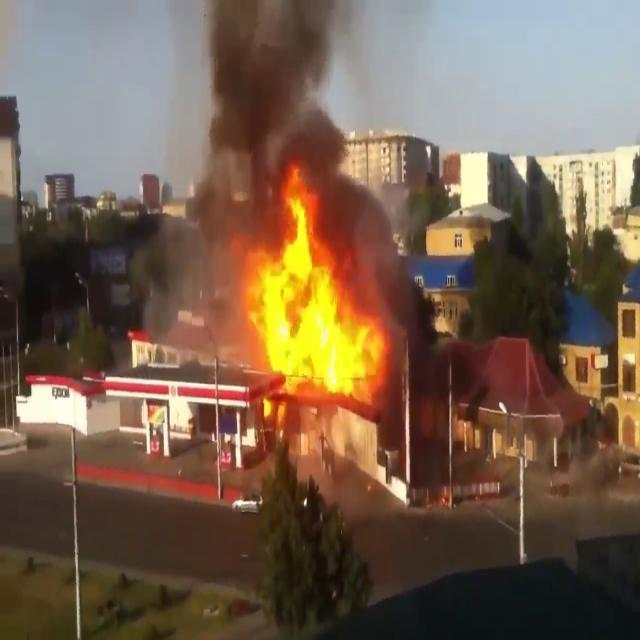Fire: (239, 172, 388, 408)
Smoke: (150, 0, 390, 244)
